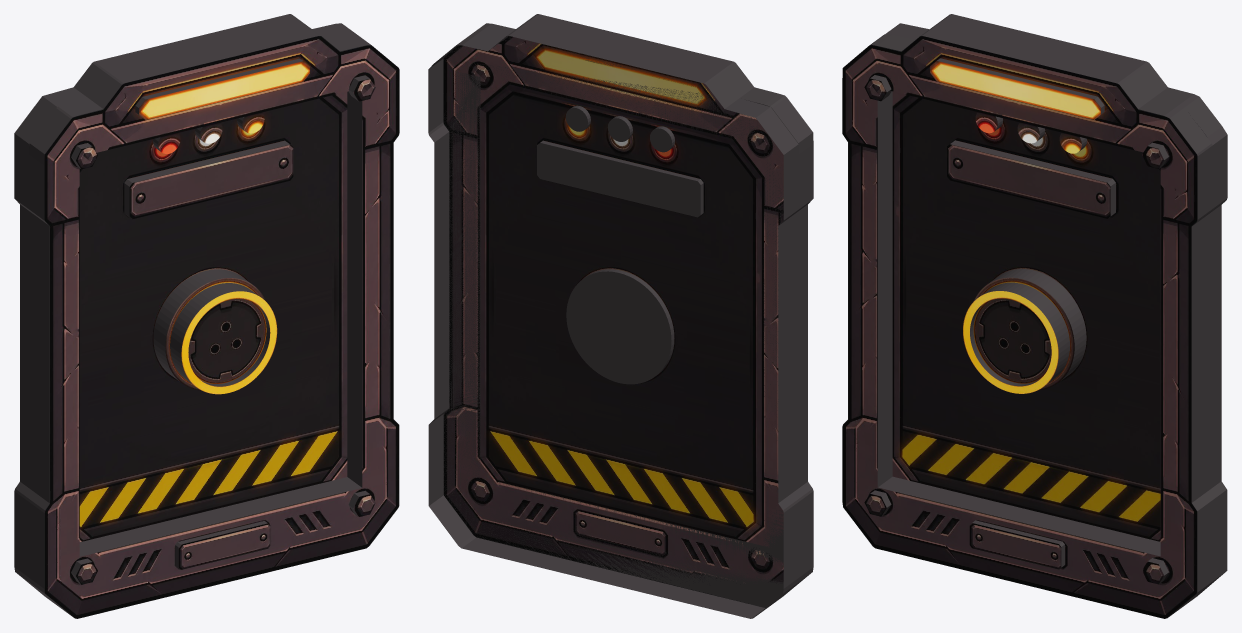
Rendered from outlet.glb.
The picture shows the model from 3 angles, left to right: view 1: azimuth 30°, elevation 25°; view 2: azimuth 150°, elevation 25°; view 3: azimuth 330°, elevation 25°; orthographic projection.
Parts seen in each view (by area): view 1: outlet; view 2: outlet; view 3: outlet.
Boxes of the visible parts, bbox=[...] form: outlet: bbox=[14, 14, 399, 618]; outlet: bbox=[428, 14, 813, 618]; outlet: bbox=[842, 14, 1227, 618].
Size of the model in its own units: 0.3438 by 0.4846 by 0.064.
3 materials, 2 textured.
